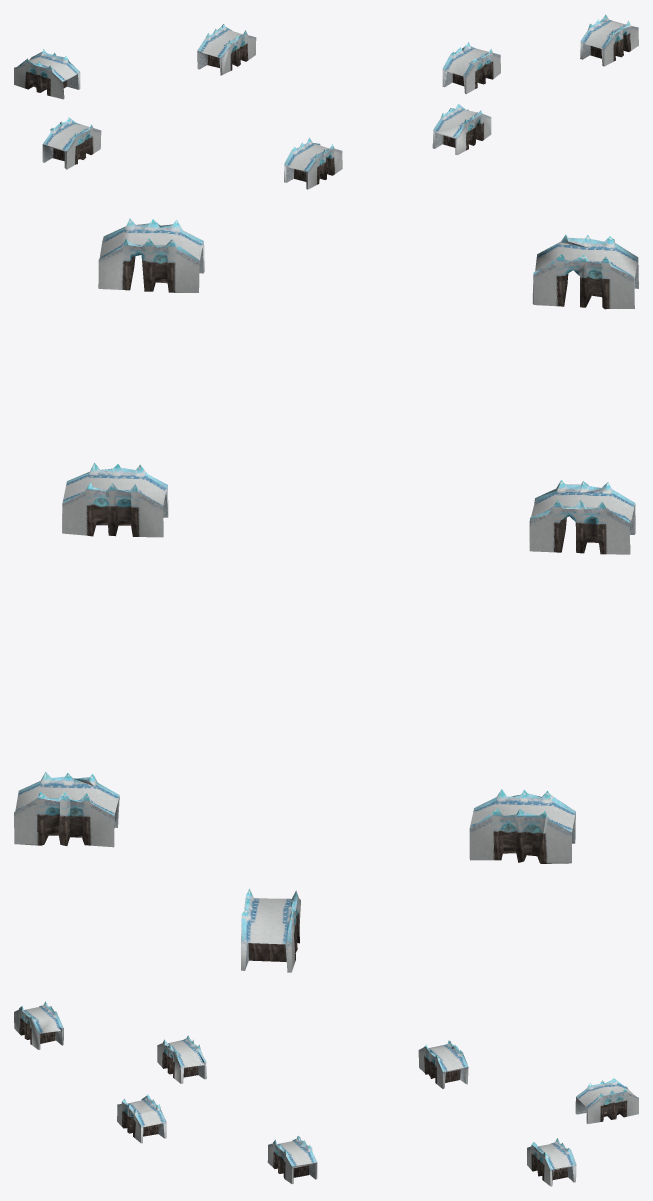
File: clod_town_c02_clod000.gltf
3 views of the same model, one above another, from view 1: azimuth 30°, elevation 25°; view 2: azimuth 150°, elevation 25°; view 3: azimuth 270°, elevation 25° (orthographic). The views are drawn at different scales.
Visible parts, largest first — view 1: clod_town_c02_clod000_000_meshShape:remesh_mat; view 2: clod_town_c02_clod000_000_meshShape:remesh_mat; view 3: clod_town_c02_clod000_000_meshShape:remesh_mat.
Part boxes in pixels (bbox=[...]): clod_town_c02_clod000_000_meshShape:remesh_mat: bbox=[14, 14, 638, 189]; clod_town_c02_clod000_000_meshShape:remesh_mat: bbox=[14, 218, 638, 972]; clod_town_c02_clod000_000_meshShape:remesh_mat: bbox=[14, 1001, 638, 1186].
Size of the model in its own units: 166 by 61.33 by 218.
Materials: 1 (1 with a texture image).
